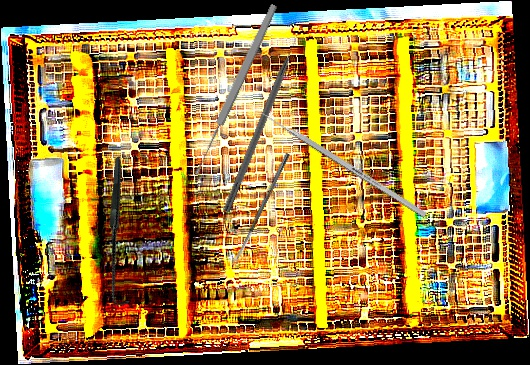Hook Surgical: (43, 155, 198, 311), (221, 26, 306, 214)
Pusher: (251, 104, 428, 219)
Surgical Spoon: (190, 2, 280, 177), (230, 152, 291, 267)
